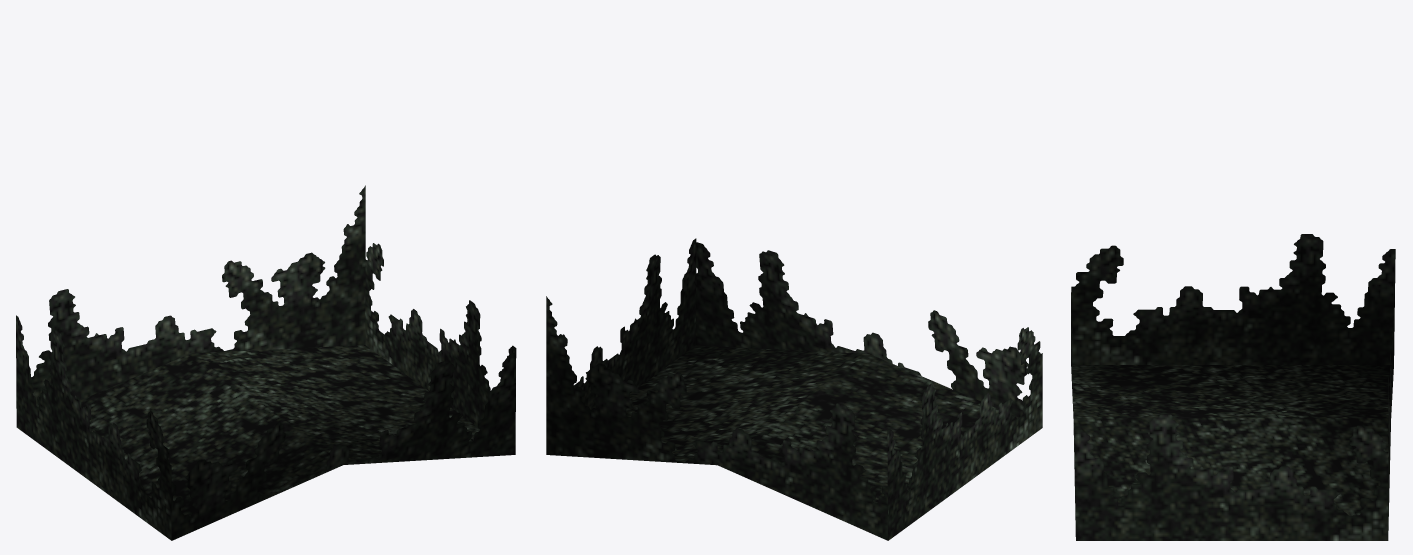
File: SM_EC_Scrubline_Doorway_Alt_0.fbx
3 views of the same model, side by side, from view 1: azimuth 30°, elevation 25°; view 2: azimuth 150°, elevation 25°; view 3: azimuth 270°, elevation 25° (orthographic). The views are drawn at different scales.
Parts seen in each view (by area): view 1: SM_EC_Scrubline_Doorway_Alt_0; view 2: SM_EC_Scrubline_Doorway_Alt_0; view 3: SM_EC_Scrubline_Doorway_Alt_0.
Boxes of the visible parts, box(x1,y1,x2,y2) form: SM_EC_Scrubline_Doorway_Alt_0: box(16, 185, 516, 540); SM_EC_Scrubline_Doorway_Alt_0: box(546, 238, 1042, 540); SM_EC_Scrubline_Doorway_Alt_0: box(1071, 234, 1395, 540).
Size of the model in its own units: 2.03 by 1.6 by 1.89.
